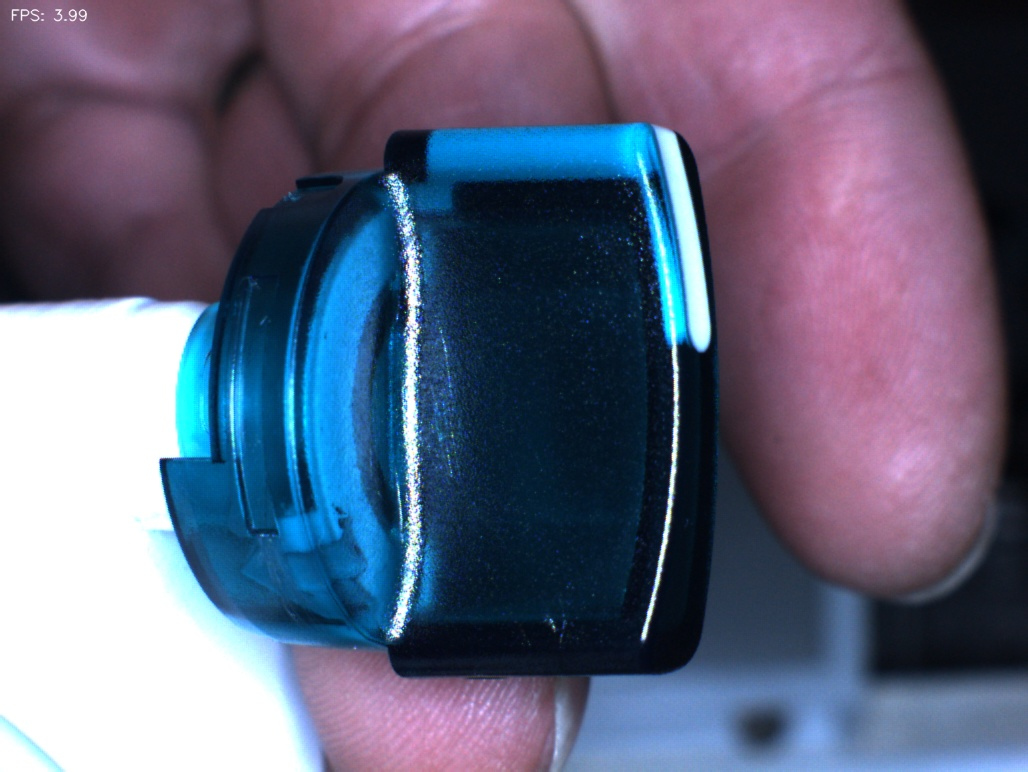Givrage: (408, 308, 495, 505)
